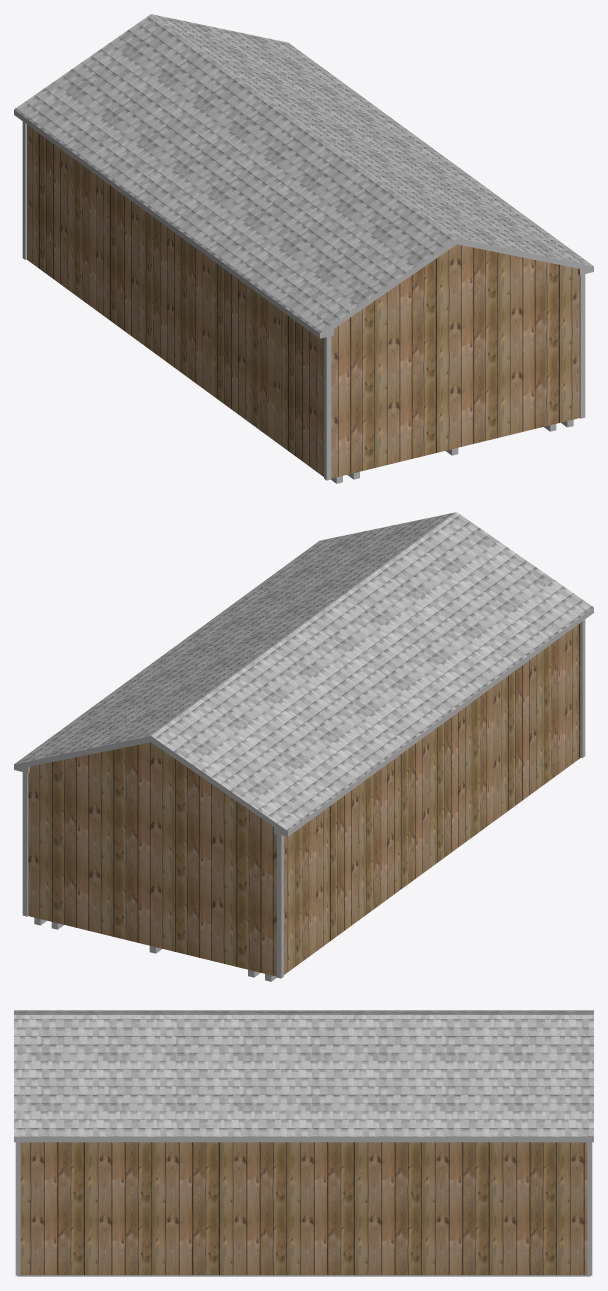
File: Single Garage A-frame_14x28.obj
3 renders of one model, top to bottom at view 1: azimuth 30°, elevation 25°; view 2: azimuth 150°, elevation 25°; view 3: azimuth 270°, elevation 25°, orthographic. The views are drawn at different scales.
Parts seen in each view (by area): view 1: Shed, Roof, Sides, Trim; view 2: Shed, Roof, Sides, Trim; view 3: Shed, Roof, Sides, Trim, Floor.
Boxes of the visible parts, bbox=[...] form: Shed: bbox=[27, 124, 579, 478]; Roof: bbox=[14, 14, 593, 332]; Sides: bbox=[14, 110, 593, 338]; Trim: bbox=[22, 121, 585, 480]; Shed: bbox=[28, 622, 580, 976]; Roof: bbox=[14, 512, 593, 830]; Sides: bbox=[14, 608, 593, 836]; Trim: bbox=[22, 619, 585, 978]; Shed: bbox=[20, 1142, 587, 1274]; Roof: bbox=[14, 1010, 593, 1136]; Sides: bbox=[14, 1137, 593, 1142]; Trim: bbox=[15, 1142, 592, 1275]; Floor: bbox=[17, 1275, 590, 1276].
Size of the model in its own units: 4.47 by 3.4 by 8.64.
